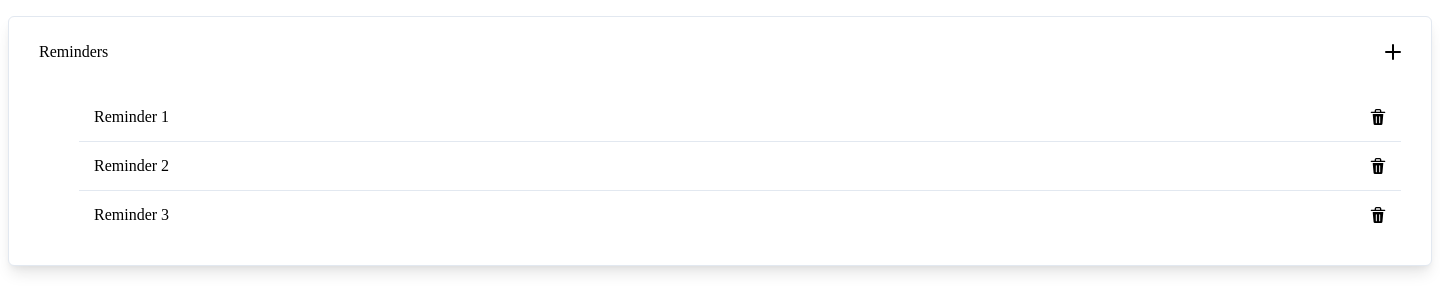
<TodoList /> › should delete a reminder
Click the button named "Delete Reminder 3" at {"x": 1378, "y": 215}, box [1370,207,1386,223]
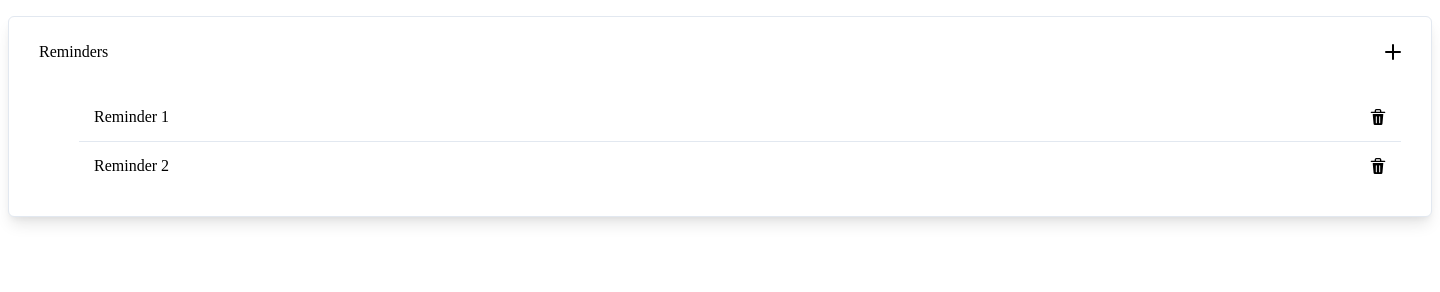
Expected: the list item "Reminder 3" is gone
Expected: the number of buttons named "Delete" is 2, [1370,109,1386,125]; [1370,158,1386,174]
